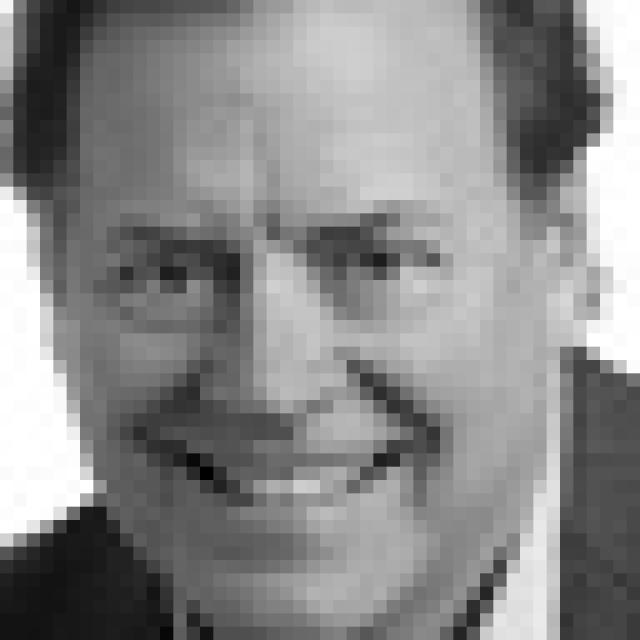happy: (93, 190, 466, 560)
